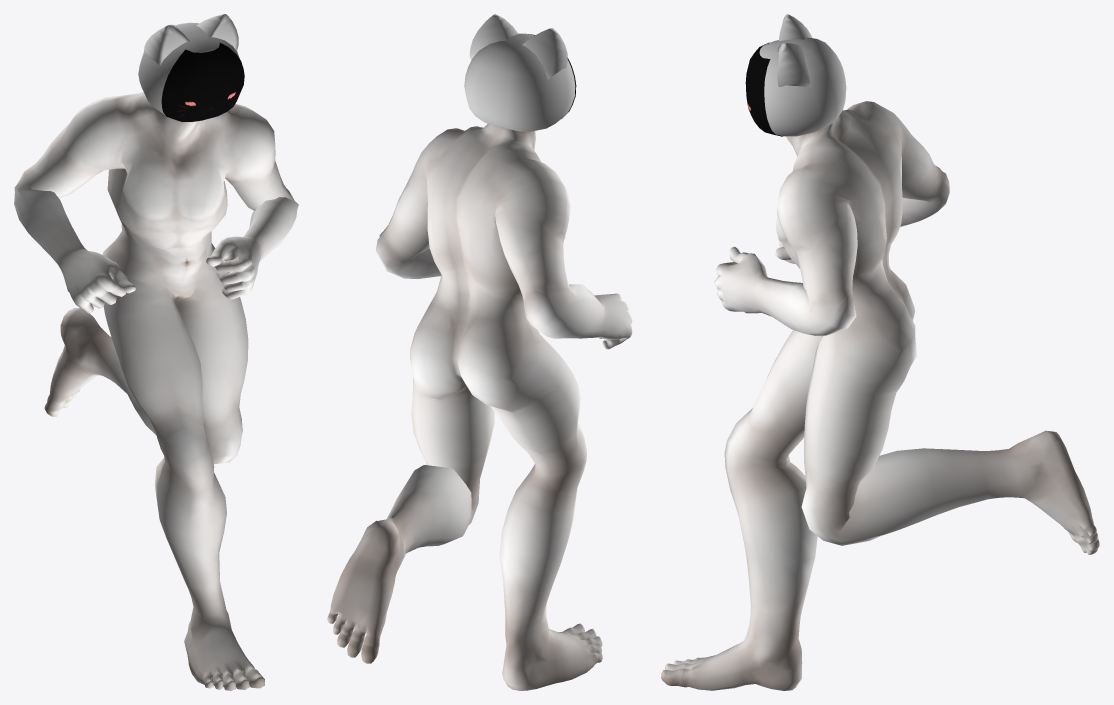
The picture shows the model from 3 angles, left to right: view 1: azimuth 30°, elevation 25°; view 2: azimuth 150°, elevation 25°; view 3: azimuth 270°, elevation 25°; orthographic projection. The views are drawn at different scales.
Parts seen in each view (by area): view 1: Muscle_Body, ______?001, Cat_Head; view 2: Muscle_Body, Cat_Head; view 3: Muscle_Body, Cat_Head, ______?001.
Boxes of the visible parts, <box> form: Muscle_Body: <box>14,92,298,690</box>; ______?001: <box>161,43,244,121</box>; Cat_Head: <box>138,14,239,115</box>; Muscle_Body: <box>327,124,632,690</box>; Cat_Head: <box>464,14,575,131</box>; Muscle_Body: <box>661,101,1099,690</box>; Cat_Head: <box>759,14,846,136</box>; ______?001: <box>745,42,782,136</box>.
Bounding box in the file's own units: 10.61 × 27.63 × 16.66.
